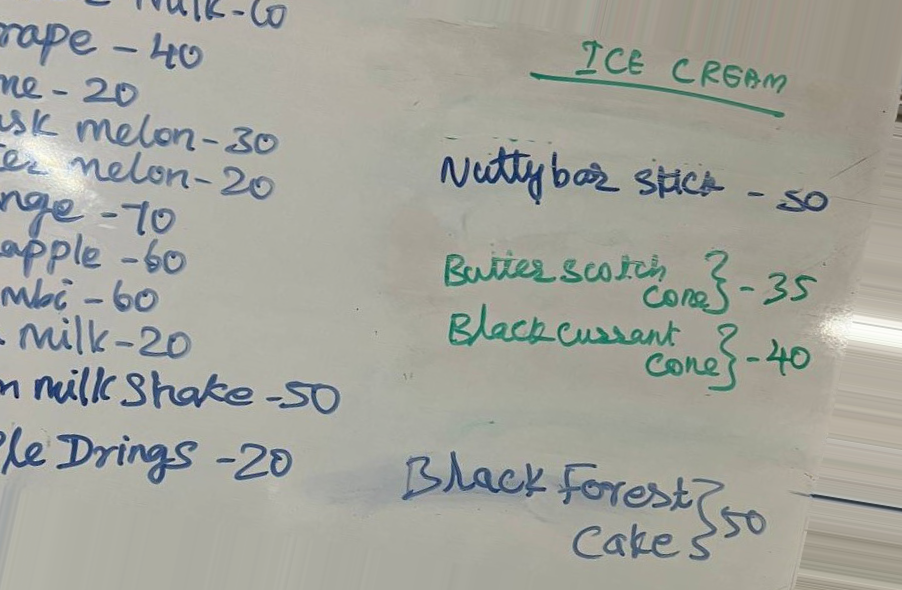black current cone - 40: (426, 307, 813, 391)
black forest cake - 50: (402, 450, 770, 566)
butterscotch cone - 35: (436, 234, 819, 317)
nutty bar - 30: (437, 144, 832, 218)
